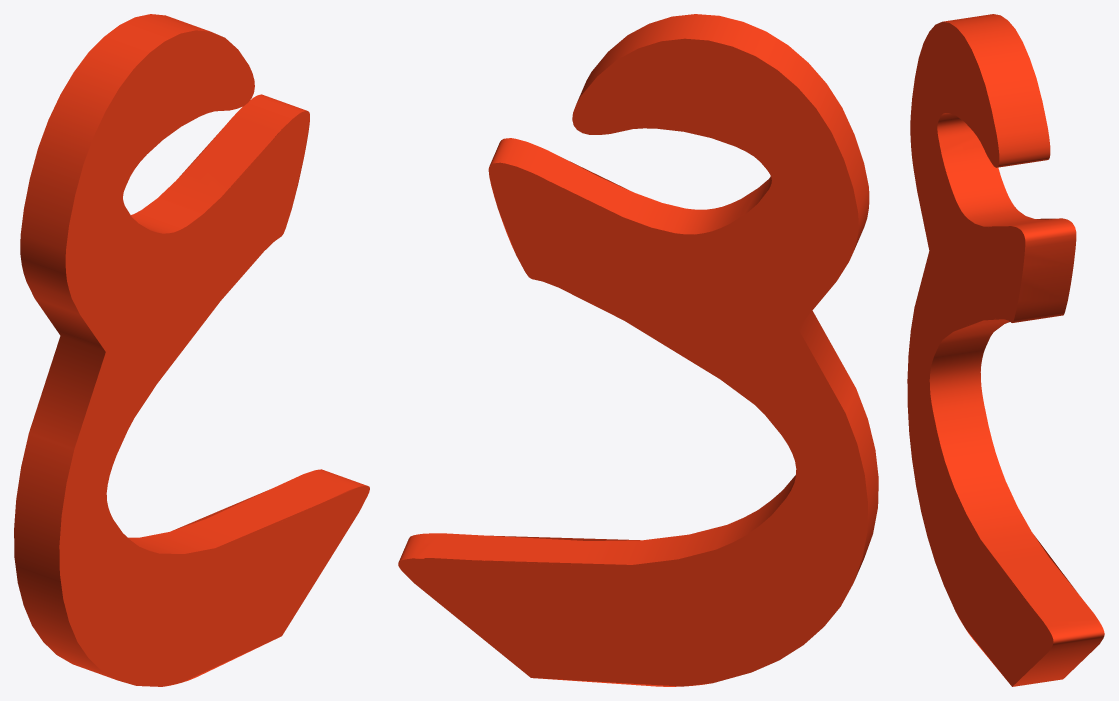
Rendered from ain.fbx.
The picture shows the model from 3 angles, left to right: view 1: azimuth 30°, elevation 25°; view 2: azimuth 150°, elevation 25°; view 3: azimuth 270°, elevation 25°; orthographic projection. The views are drawn at different scales.
Parts seen in each view (by area): view 1: ain; view 2: ain; view 3: ain.
Boxes of the visible parts, x1,y1,x2,y2 form: ain: (14,14,369,686); ain: (398,14,878,686); ain: (907,14,1104,686).
Size of the model in its own units: 899 by 1375 by 414.
